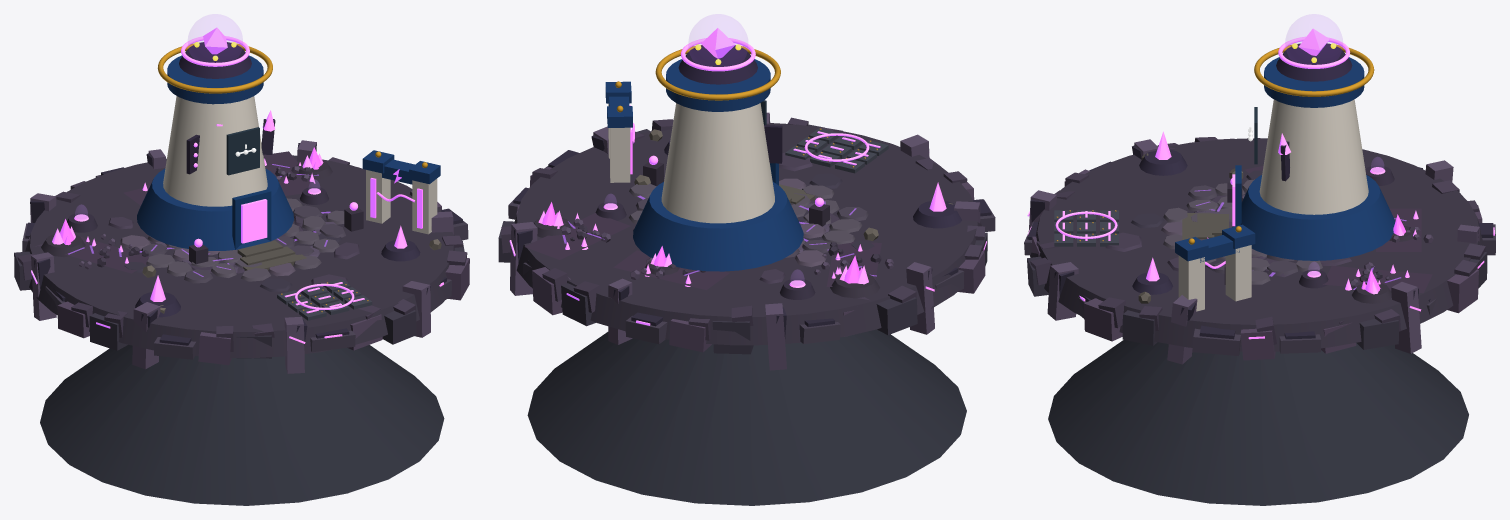
Rendered from island-04-series__static.glb.
The picture shows the model from 3 angles, left to right: view 1: azimuth 30°, elevation 25°; view 2: azimuth 150°, elevation 25°; view 3: azimuth 270°, elevation 25°; orthographic projection. The views are drawn at different scales.
Parts seen in each view (by area): view 1: I04_BASE, I04_AMETHYST_SURFACE, I04_TOWER, I04_EDGE_ROCKS, I04_STONE_PLAZA, I04_PORTAL, I04_VIOLET_PATCHES, I04_METAL_PATH, I04_AMETHYST_CLUSTERS, I04_CRYSTALS, I04_VIOLET_VENTS, I04_VIOLET_MARKERS; view 2: I04_BASE, I04_AMETHYST_SURFACE, I04_TOWER, I04_EDGE_ROCKS, I04_VIOLET_PATCHES, I04_STONE_PLAZA, I04_PORTAL, I04_AMETHYST_CLUSTERS, I04_METAL_PATH, I04_CRYSTALS, I04_VIOLET_VENTS, I04_VIOLET_MARKERS (+1 smaller); view 3: I04_BASE, I04_AMETHYST_SURFACE, I04_TOWER, I04_EDGE_ROCKS, I04_PORTAL, I04_STONE_PLAZA, I04_VIOLET_PATCHES, I04_CRYSTALS, I04_METAL_PATH, I04_AMETHYST_CLUSTERS, I04_VIOLET_VENTS.
Boxes of the visible parts, bbox=[...] form: I04_BASE: bbox=[40, 344, 444, 505]; I04_AMETHYST_SURFACE: bbox=[25, 154, 454, 358]; I04_TOWER: bbox=[137, 14, 306, 270]; I04_EDGE_ROCKS: bbox=[14, 140, 469, 373]; I04_STONE_PLAZA: bbox=[120, 198, 345, 283]; I04_PORTAL: bbox=[362, 150, 440, 234]; I04_VIOLET_PATCHES: bbox=[65, 151, 318, 273]; I04_METAL_PATH: bbox=[277, 279, 372, 320]; I04_AMETHYST_CLUSTERS: bbox=[41, 147, 332, 256]; I04_CRYSTALS: bbox=[135, 225, 420, 317]; I04_VIOLET_VENTS: bbox=[67, 180, 328, 232]; I04_VIOLET_MARKERS: bbox=[189, 202, 363, 264]; I04_BASE: bbox=[527, 329, 966, 505]; I04_AMETHYST_SURFACE: bbox=[514, 123, 981, 345]; I04_TOWER: bbox=[633, 14, 815, 271]; I04_EDGE_ROCKS: bbox=[498, 112, 995, 370]; I04_VIOLET_PATCHES: bbox=[524, 213, 893, 290]; I04_STONE_PLAZA: bbox=[629, 178, 868, 267]; I04_PORTAL: bbox=[605, 81, 634, 182]; I04_AMETHYST_CLUSTERS: bbox=[534, 202, 879, 298]; I04_METAL_PATH: bbox=[785, 128, 888, 173]; I04_CRYSTALS: bbox=[664, 140, 961, 228]; I04_VIOLET_VENTS: bbox=[595, 194, 815, 299]; I04_VIOLET_MARKERS: bbox=[643, 155, 829, 226]; I04_BASE: bbox=[1048, 340, 1468, 505]; I04_AMETHYST_SURFACE: bbox=[1030, 138, 1485, 351]; I04_TOWER: bbox=[1182, 14, 1395, 260]; I04_EDGE_ROCKS: bbox=[1024, 137, 1495, 364]; I04_PORTAL: bbox=[1175, 224, 1255, 311]; I04_STONE_PLAZA: bbox=[1161, 179, 1322, 284]; I04_VIOLET_PATCHES: bbox=[1245, 166, 1433, 293]; I04_CRYSTALS: bbox=[1132, 131, 1187, 294]; I04_METAL_PATH: bbox=[1054, 210, 1118, 246]; I04_AMETHYST_CLUSTERS: bbox=[1352, 160, 1413, 303]; I04_VIOLET_VENTS: bbox=[1299, 157, 1394, 288].
Size of the model in its own units: 8.95 by 8.34 by 8.92.
